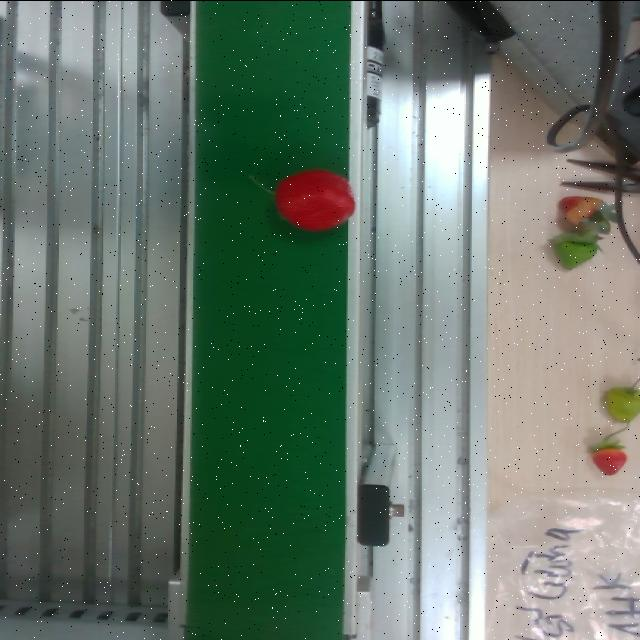Small Ripe Strawberry: (246, 167, 356, 234)
conveyor: (178, 0, 364, 640)
